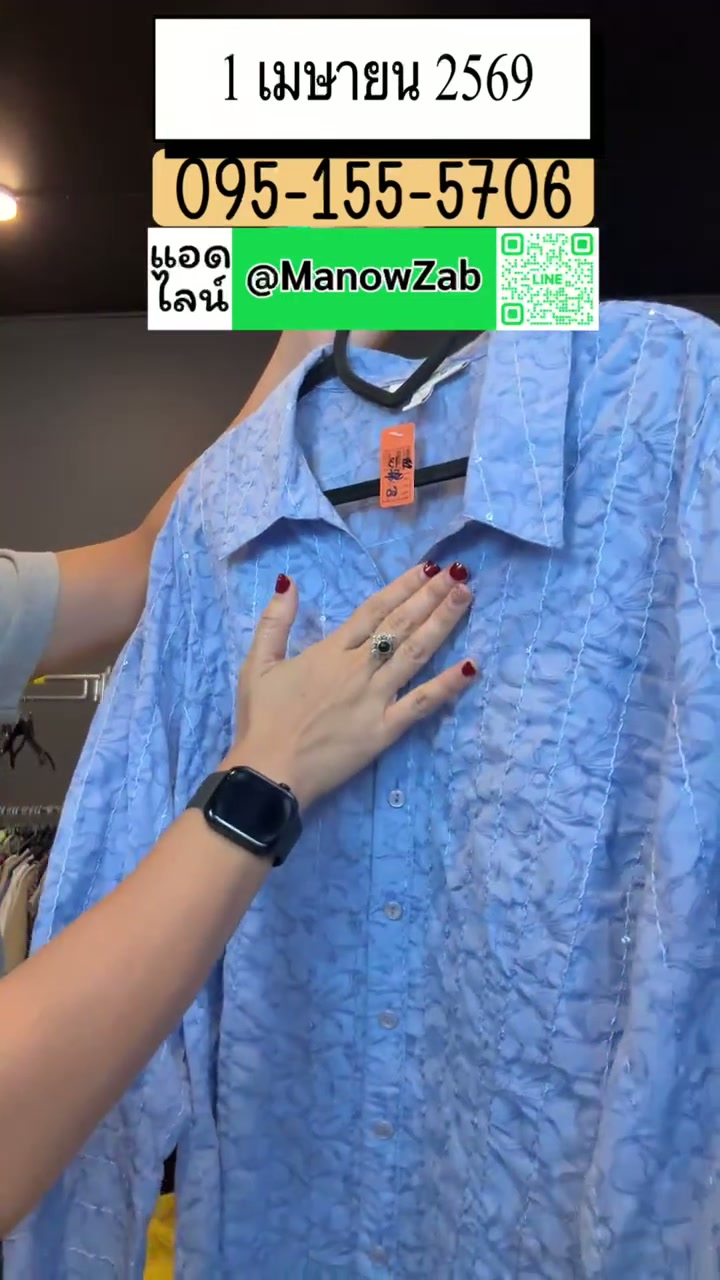display_shirt: (5, 301, 719, 1279)
